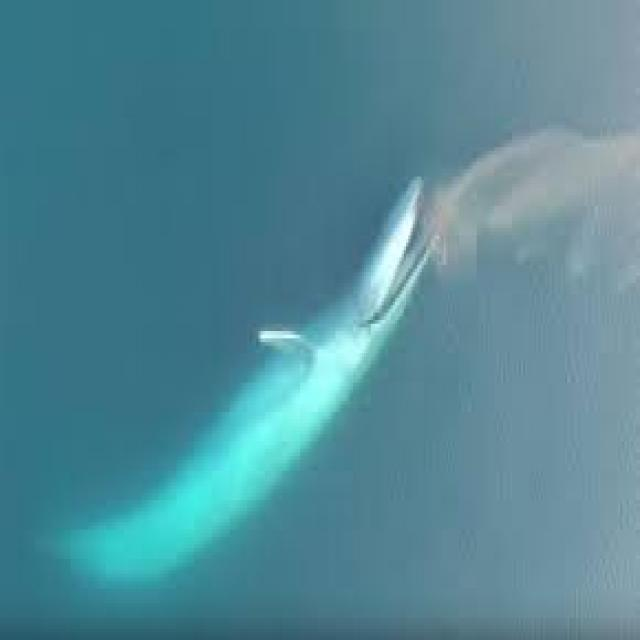blue_whale: (46, 143, 444, 640)
